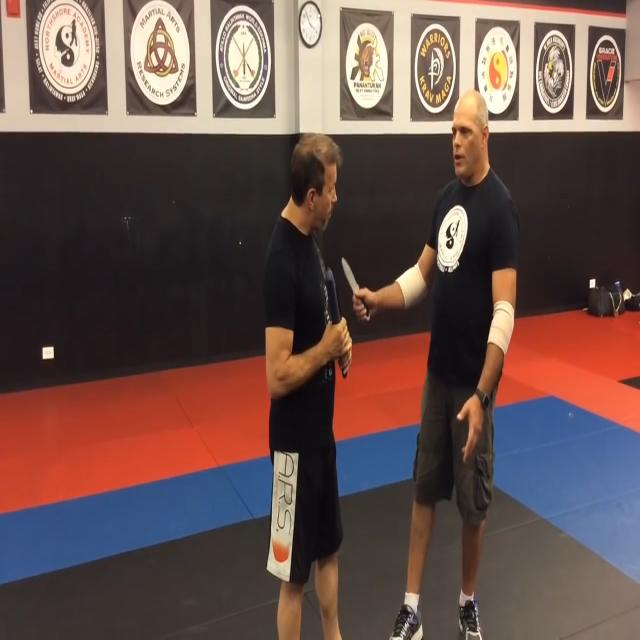knife: (342, 248, 362, 302)
